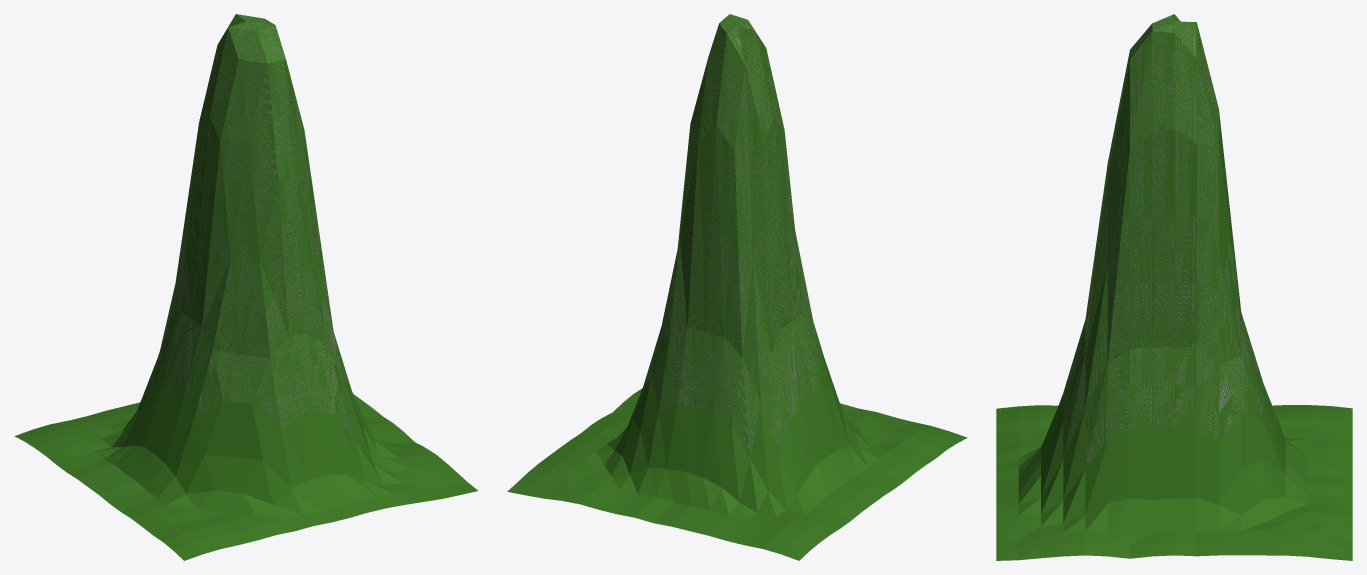
Rendered from ground10.fbx.
3 views of the same model, side by side, from view 1: azimuth 30°, elevation 25°; view 2: azimuth 150°, elevation 25°; view 3: azimuth 270°, elevation 25° (orthographic). The views are drawn at different scales.
Parts seen in each view (by area): view 1: Plane; view 2: Plane; view 3: Plane.
Part boxes in pixels (box(x1,y1,x2,y2)): Plane: box(14, 14, 478, 560); Plane: box(507, 14, 967, 560); Plane: box(996, 14, 1352, 560).
Size of the model in its own units: 100 by 144 by 100.
Materials: 1 (1 with a texture image).
